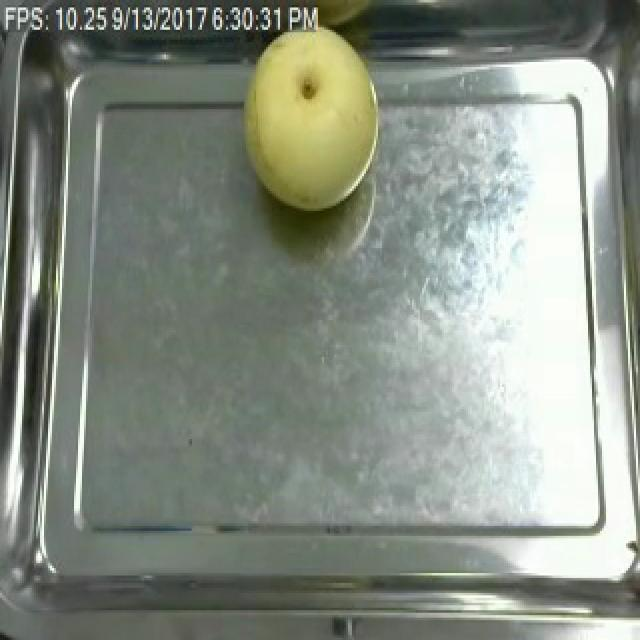Fruit: (232, 10, 390, 218)
